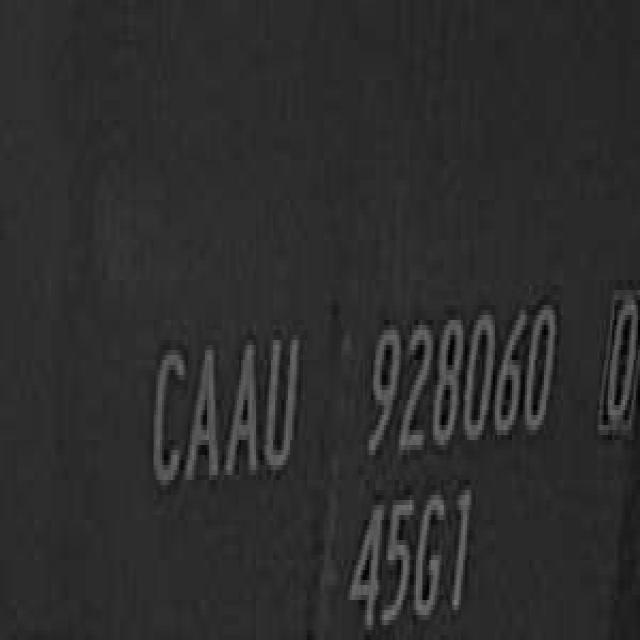dv: (595, 270, 640, 445)
owner: (139, 305, 303, 500)
serial: (354, 285, 561, 470)
size: (344, 480, 474, 640)
